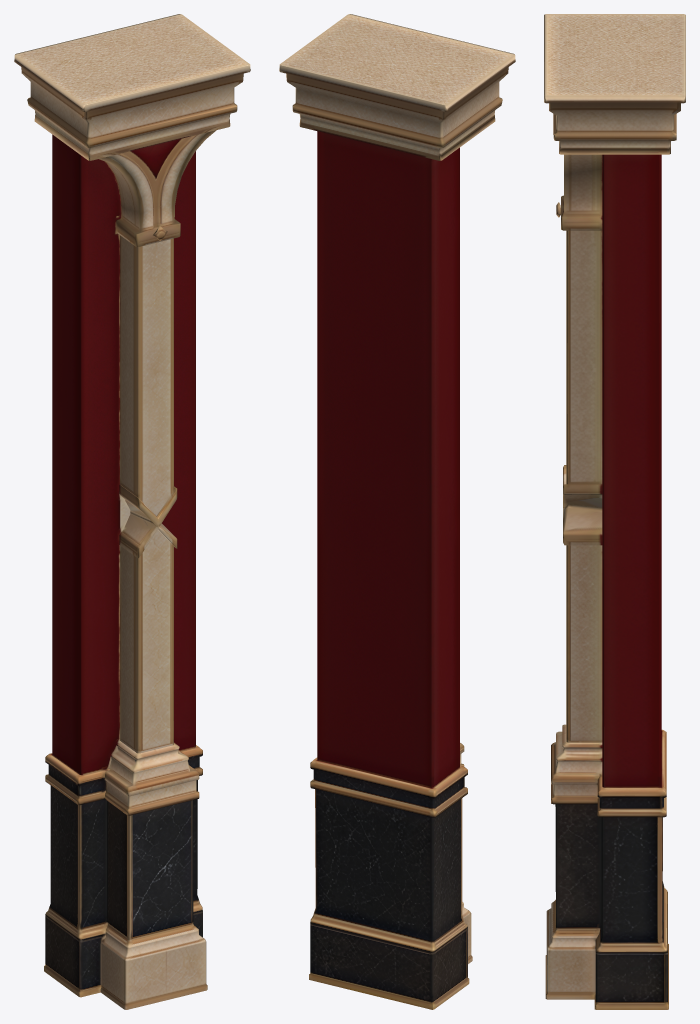
The model's file is pillar.glb.
3 views of the same model, side by side, from view 1: azimuth 30°, elevation 25°; view 2: azimuth 150°, elevation 25°; view 3: azimuth 270°, elevation 25° (orthographic).
Parts seen in each view (by area): view 1: pillar; view 2: pillar; view 3: pillar.
Part boxes in pixels (x1,y1,x2,y2): pillar: (14, 14, 250, 1009); pillar: (279, 14, 515, 1009); pillar: (544, 14, 685, 1009).
Bounding box in the file's own units: 1.73 × 9.03 × 1.26.
Materials: 1 (1 with a texture image).
